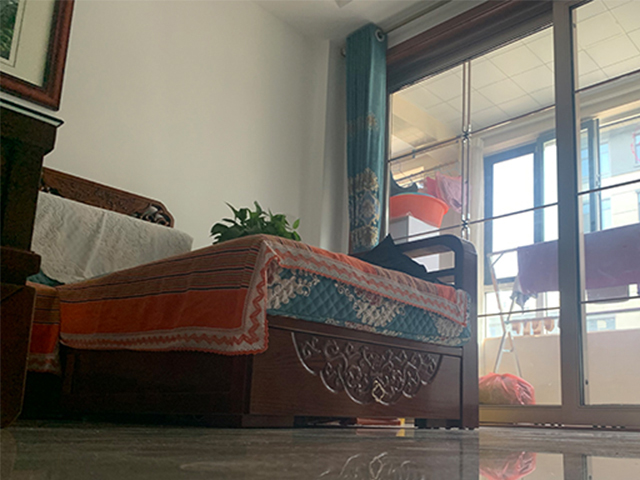curtain: (342, 22, 393, 253)
sofa: (24, 166, 482, 431)
